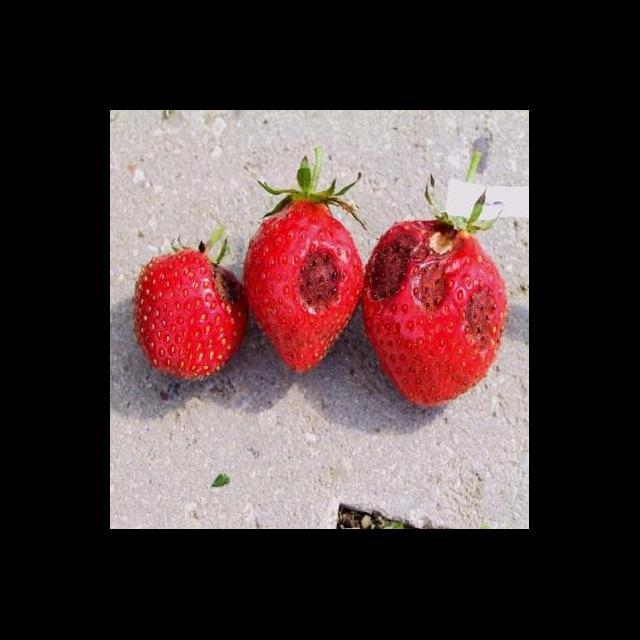Anthracnose Fruit Rot: (366, 225, 506, 353), (295, 251, 346, 308), (206, 262, 242, 307)
